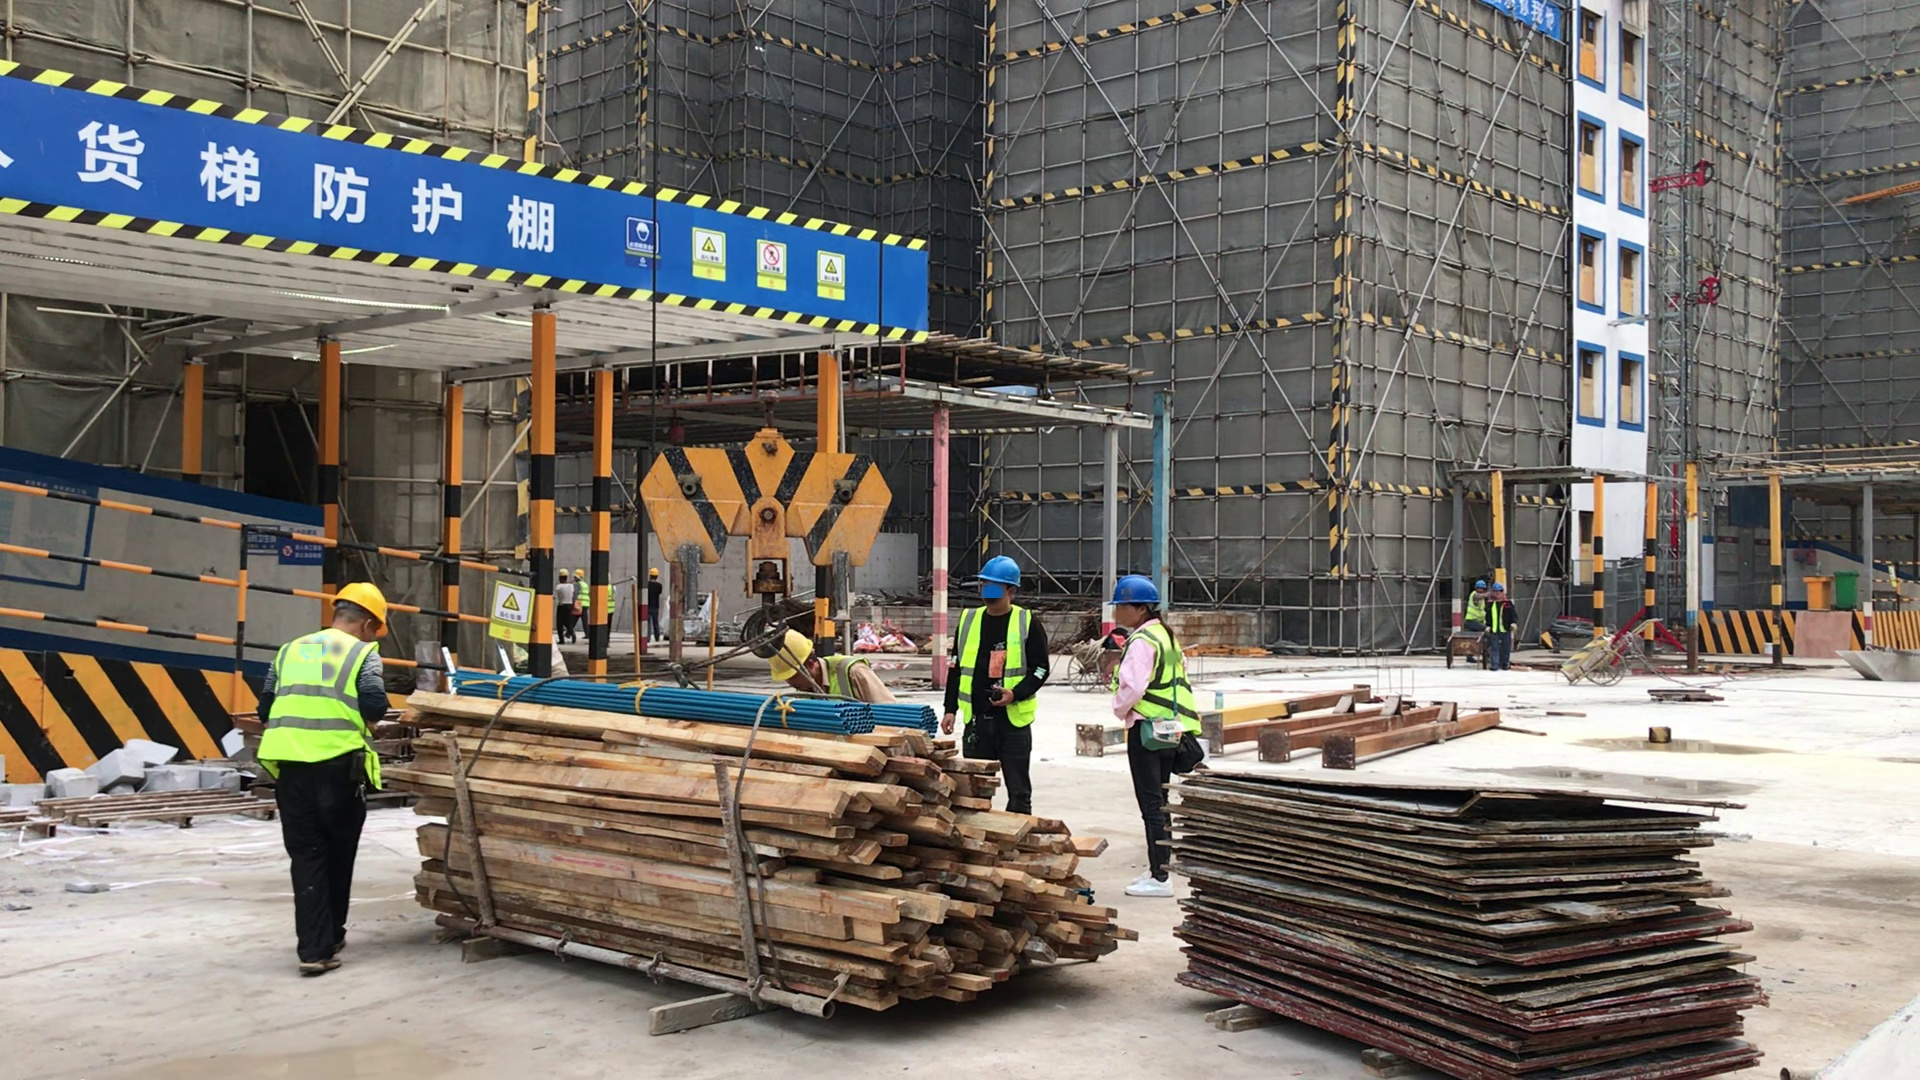helmet: (330, 578, 388, 631), (769, 631, 814, 677), (1109, 574, 1161, 605), (976, 556, 1021, 587), (1489, 584, 1505, 593), (574, 570, 583, 581), (1472, 581, 1485, 589), (558, 568, 569, 578), (648, 568, 658, 577)
person: (244, 578, 410, 979), (1091, 569, 1221, 904), (936, 554, 1052, 817), (764, 634, 901, 715), (1487, 581, 1518, 672), (1457, 578, 1488, 634), (554, 567, 574, 645), (603, 573, 620, 651), (571, 568, 589, 639), (647, 566, 662, 639)
vest: (261, 632, 375, 761), (951, 602, 1032, 730), (1121, 627, 1199, 744), (824, 650, 882, 705), (1464, 590, 1486, 620), (575, 582, 589, 609), (607, 585, 616, 613)
